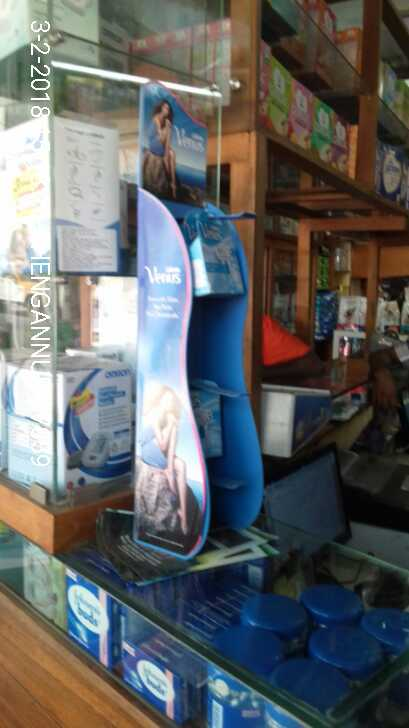venus: (192, 222, 243, 296)
